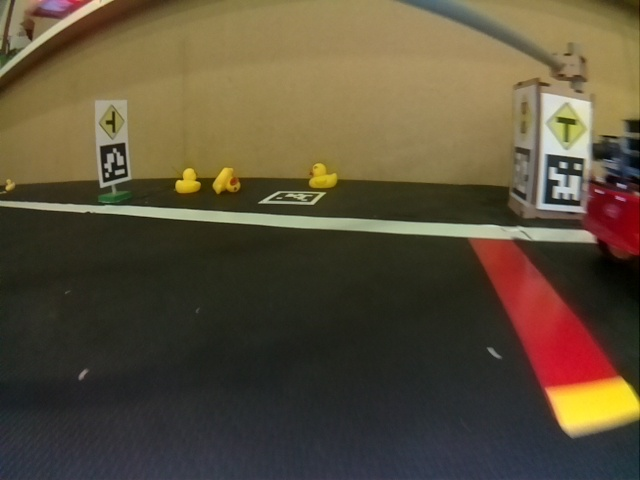Duckie: (212, 167, 239, 194), (309, 163, 337, 188), (176, 169, 197, 193), (6, 180, 15, 190)
Duckiebot: (588, 119, 638, 259)
Intersection sign: (544, 99, 589, 147), (97, 104, 125, 138)
QR code: (543, 157, 585, 205), (101, 143, 130, 183), (511, 147, 530, 201), (259, 190, 325, 205)
Signal sign: (513, 86, 534, 141)
